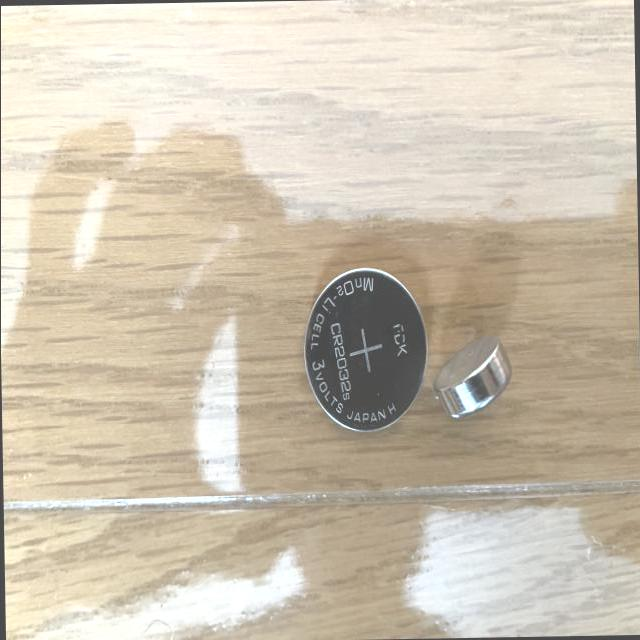COIN: (302, 267, 430, 435), (434, 334, 516, 419)
